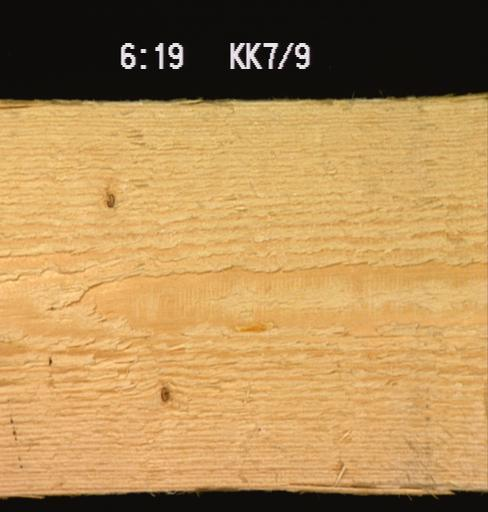dry_knot: (101, 188, 117, 211), (157, 384, 171, 403)
split: (350, 327, 427, 341), (0, 98, 34, 113)
